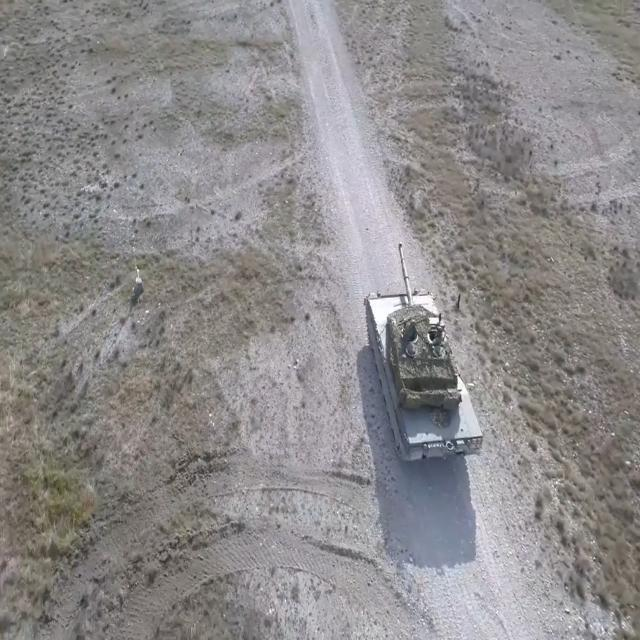Tanks: (363, 236, 483, 462)
